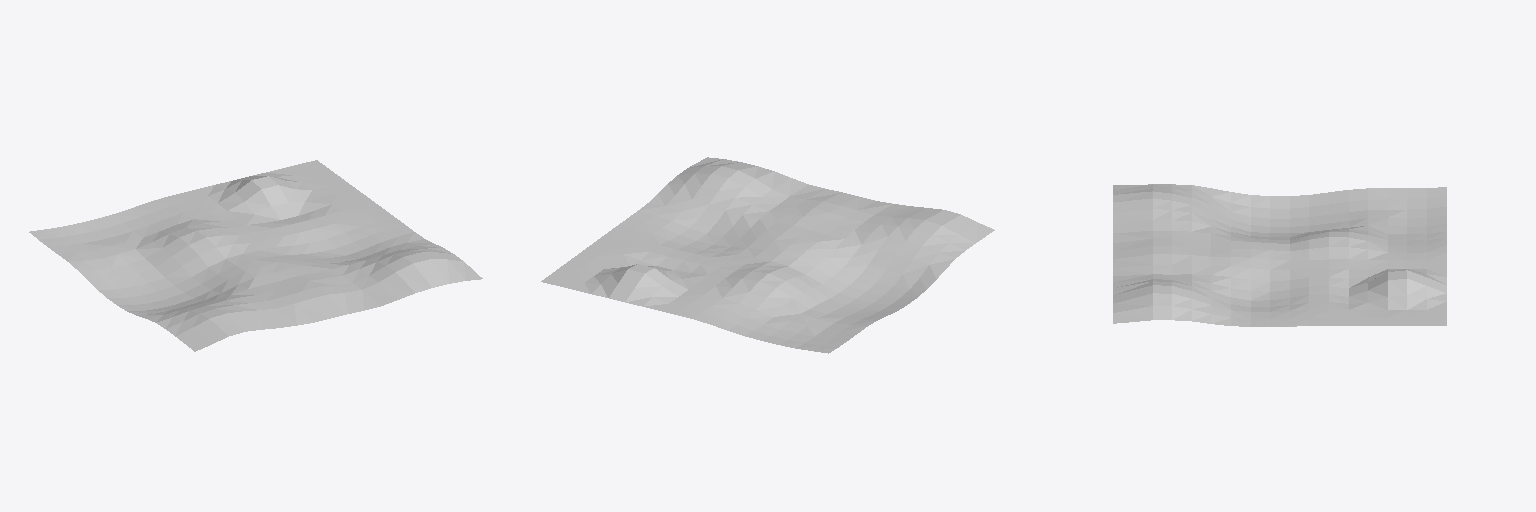
File: ground.obj
3 views of the same model, side by side, from view 1: azimuth 30°, elevation 25°; view 2: azimuth 150°, elevation 25°; view 3: azimuth 270°, elevation 25° (orthographic).
Visible parts, largest first — view 1: Plane; view 2: Plane; view 3: Plane.
Part boxes in pixels (x1,y1,x2,y2): Plane: (29,160,482,351); Plane: (541,157,994,353); Plane: (1113,184,1446,326).
Size of the model in its own units: 16 by 1.74 by 16.